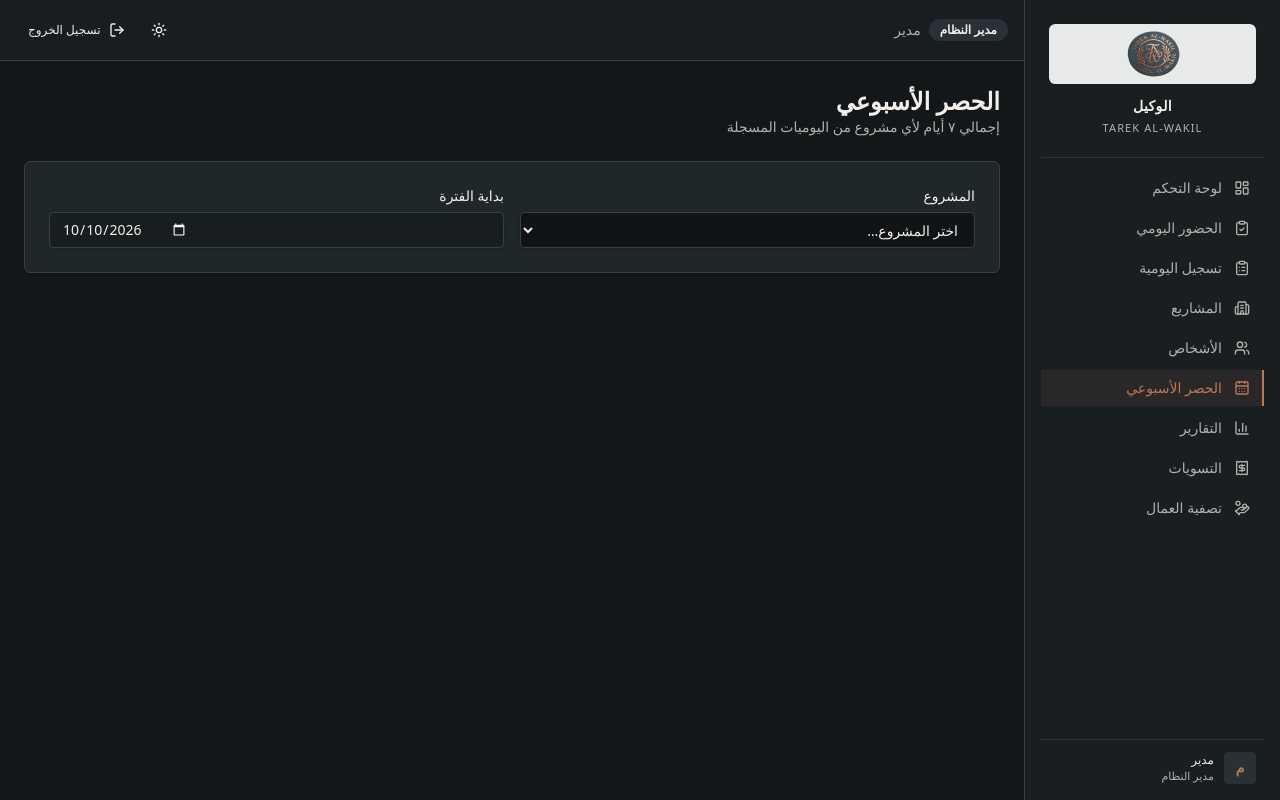
Scenario: WeeklyPage leave › shows leave counts in the summary, daily, and per-person tables
// Window 2026-09-28..2026-10-04 covers the fixture rows.
Type "2026-09-28" into the date field labelled "بداية الفترة".
click(276, 230); type("2026-09-28")  # box [49, 212, 504, 248]
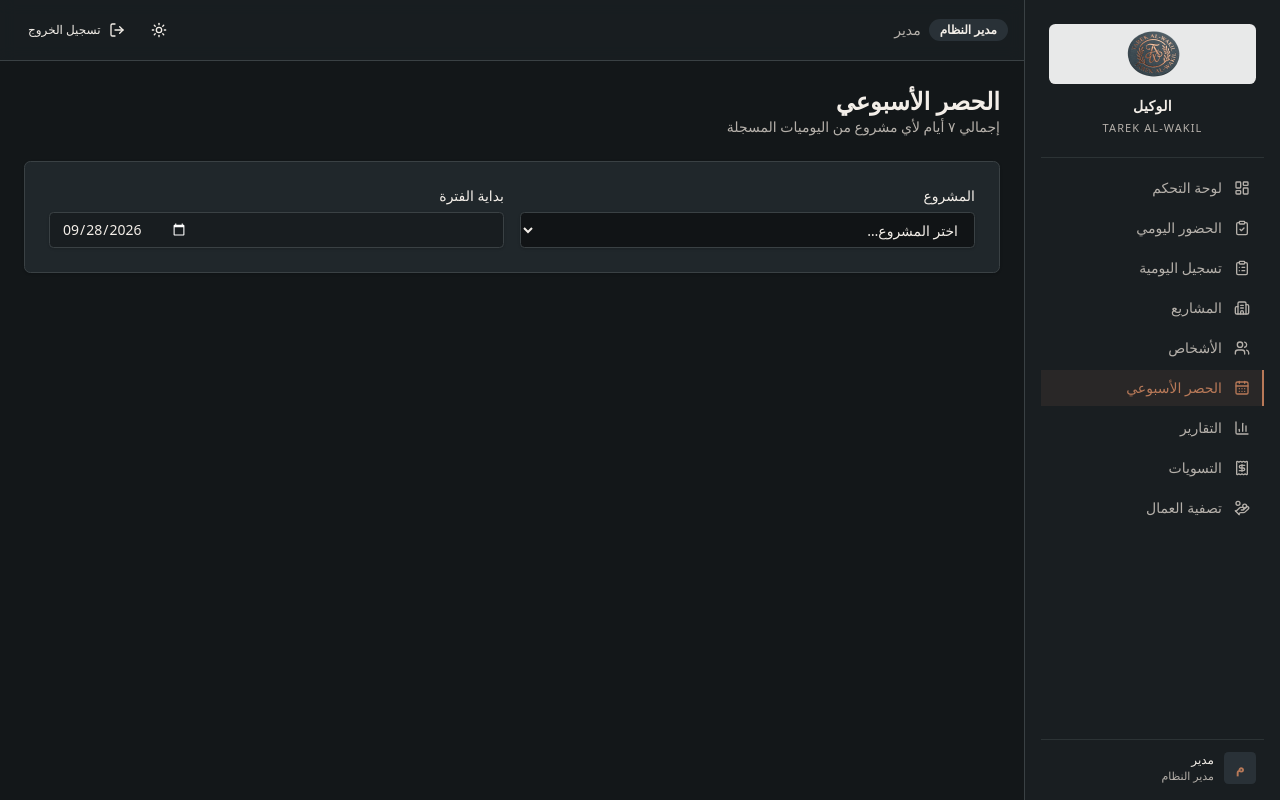
Select "مشروع" in the dropdown labelled "المشروع" at (748, 230), box [520, 212, 975, 248]
(page scrolled)
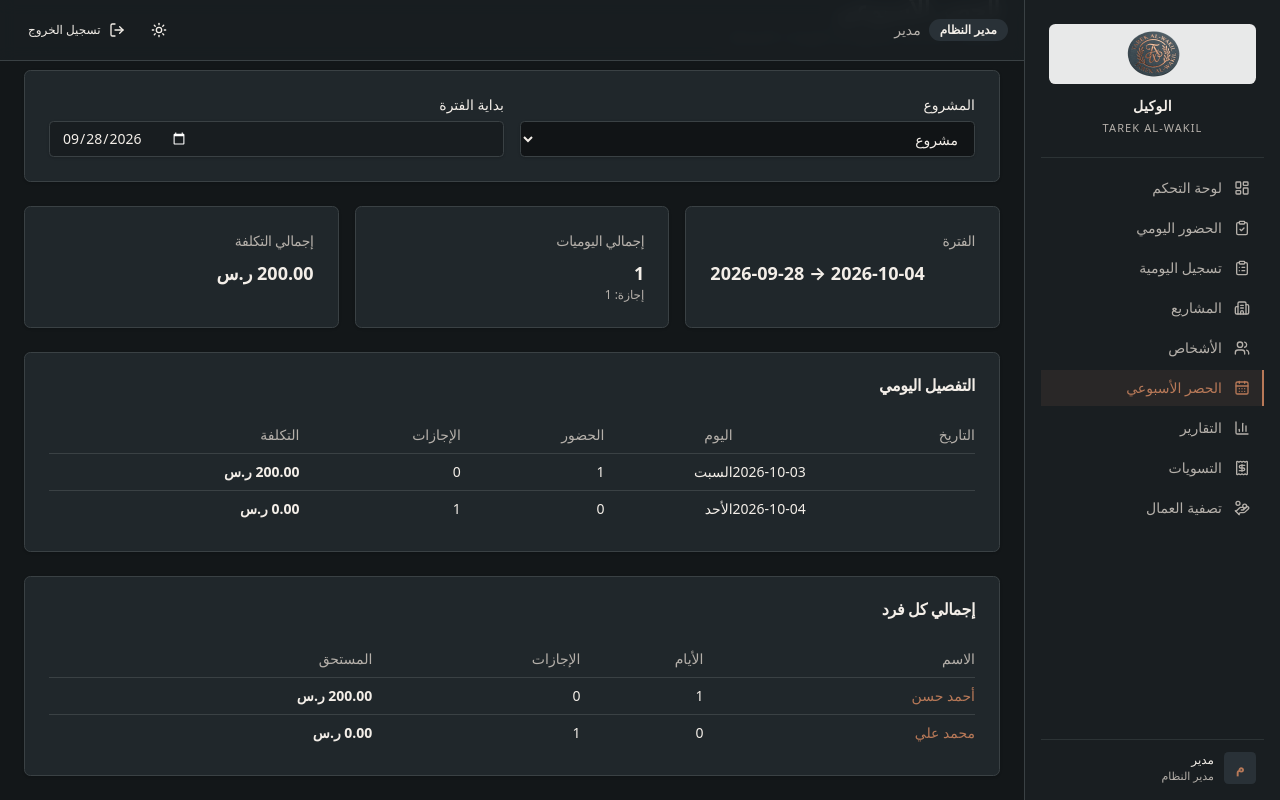
Expected: the text "إجازة: 1" is shown, [605, 286, 644, 303]
Expected: the table "أحمد حسن 1 0 200.00 ر.س محمد علي 0 1 0.00 ر.س" is shown, [49, 678, 975, 751]
Expected: the link to "/people/p2" is shown, [915, 723, 975, 742]
